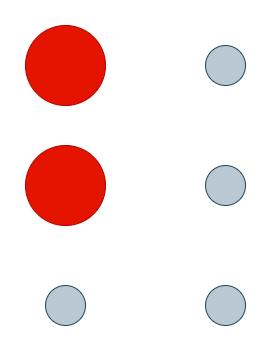B: (20, 18, 253, 332)
